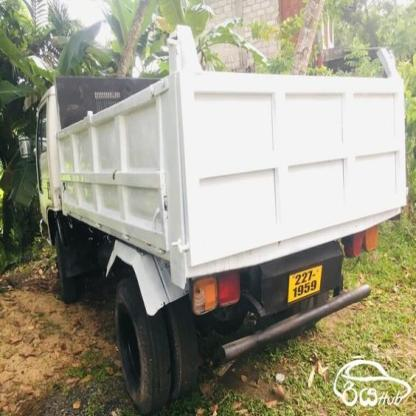Lorry back: (15, 21, 411, 416)
number plate: (290, 267, 318, 300)
